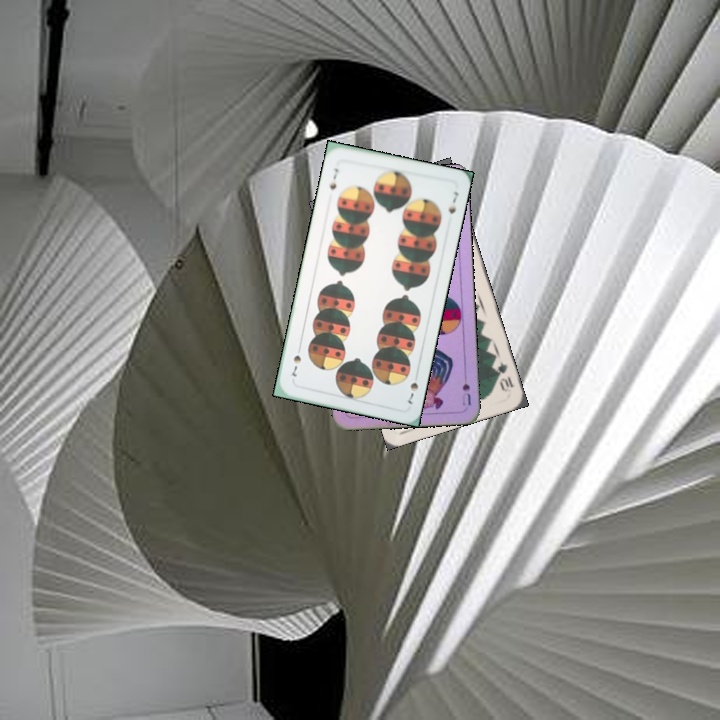G10: (492, 357, 517, 395)
S7: (403, 378, 421, 407), (325, 164, 341, 192)
SU: (458, 379, 473, 408)
